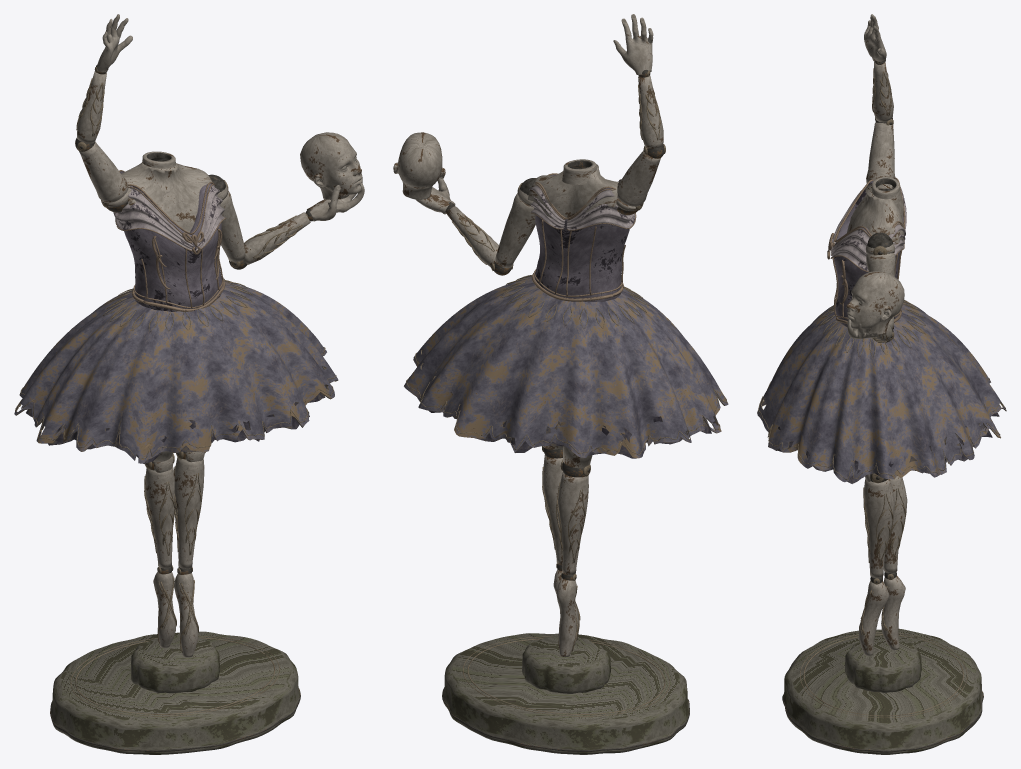
Rendered from Bailarina-Corpete.glb.
The picture shows the model from 3 angles, left to right: view 1: azimuth 30°, elevation 25°; view 2: azimuth 150°, elevation 25°; view 3: azimuth 270°, elevation 25°; orthographic projection. The views are drawn at different scales.
Parts seen in each view (by area): view 1: Tutu_Damasco_A, Pedra_Base, Tutu_Damasco_B, Pernas_Porcelana, Veste_01_Brocart, Bracos_Porcelana, Veste_04_Encolure, Mascara, Veste_02_Drapeado, Tutu_Bainha, Sapatilhas_Gravura, Veste_03_Galoes_A (+8 smaller); view 2: Tutu_Damasco_A, Pedra_Base, Tutu_Damasco_B, Veste_01_Brocart, Bracos_Porcelana, Pernas_Porcelana, Mascara, Veste_04_Encolure, Tutu_Bainha, Veste_02_Drapeado, Mao_Alta, Aneis_Base (+9 smaller); view 3: Tutu_Damasco_B, Pedra_Base, Pernas_Porcelana, Bracos_Porcelana, Mascara, Tutu_Damasco_A, Veste_04_Encolure, Tutu_Bainha, Veste_01_Brocart, Veste_02_Drapeado, Sapatilhas_Gravura, Aneis_Base (+5 smaller).
Part boxes in pixels (bbox=[...]): Tutu_Damasco_A: bbox=[14, 290, 241, 463]; Pedra_Base: bbox=[51, 631, 299, 754]; Tutu_Damasco_B: bbox=[200, 281, 338, 440]; Pernas_Porcelana: bbox=[145, 451, 204, 657]; Veste_01_Brocart: bbox=[120, 171, 221, 311]; Bracos_Porcelana: bbox=[77, 71, 310, 264]; Veste_04_Encolure: bbox=[121, 162, 212, 232]; Mascara: bbox=[300, 132, 362, 199]; Veste_02_Drapeado: bbox=[113, 185, 224, 250]; Tutu_Bainha: bbox=[15, 278, 338, 463]; Sapatilhas_Gravura: bbox=[144, 451, 205, 652]; Veste_03_Galoes_A: bbox=[115, 170, 196, 311]; Tutu_Damasco_A: bbox=[506, 288, 728, 458]; Pedra_Base: bbox=[443, 633, 689, 754]; Tutu_Damasco_B: bbox=[404, 276, 557, 440]; Veste_01_Brocart: bbox=[534, 174, 629, 302]; Bracos_Porcelana: bbox=[447, 75, 663, 268]; Pernas_Porcelana: bbox=[543, 445, 592, 656]; Mascara: bbox=[393, 132, 445, 199]; Veste_04_Encolure: bbox=[528, 164, 618, 219]; Tutu_Bainha: bbox=[406, 275, 726, 458]; Veste_02_Drapeado: bbox=[529, 185, 635, 229]; Mao_Alta: bbox=[613, 14, 653, 74]; Aneis_Base: bbox=[463, 636, 669, 716]; Tutu_Damasco_B: bbox=[757, 315, 1000, 482]; Pedra_Base: bbox=[783, 628, 982, 754]; Pernas_Porcelana: bbox=[858, 474, 907, 655]; Bracos_Porcelana: bbox=[865, 62, 895, 341]; Mascara: bbox=[846, 271, 904, 334]; Tutu_Damasco_A: bbox=[764, 301, 1006, 413]; Veste_04_Encolure: bbox=[847, 176, 903, 245]; Tutu_Bainha: bbox=[758, 300, 1006, 481]; Veste_01_Brocart: bbox=[834, 179, 903, 327]; Veste_02_Drapeado: bbox=[831, 187, 906, 270]; Sapatilhas_Gravura: bbox=[860, 473, 905, 652]; Aneis_Base: bbox=[800, 632, 967, 718].
Bounding box in the file's own units: 10.69 × 22.66 × 7.75.
13 materials, 13 textured.
